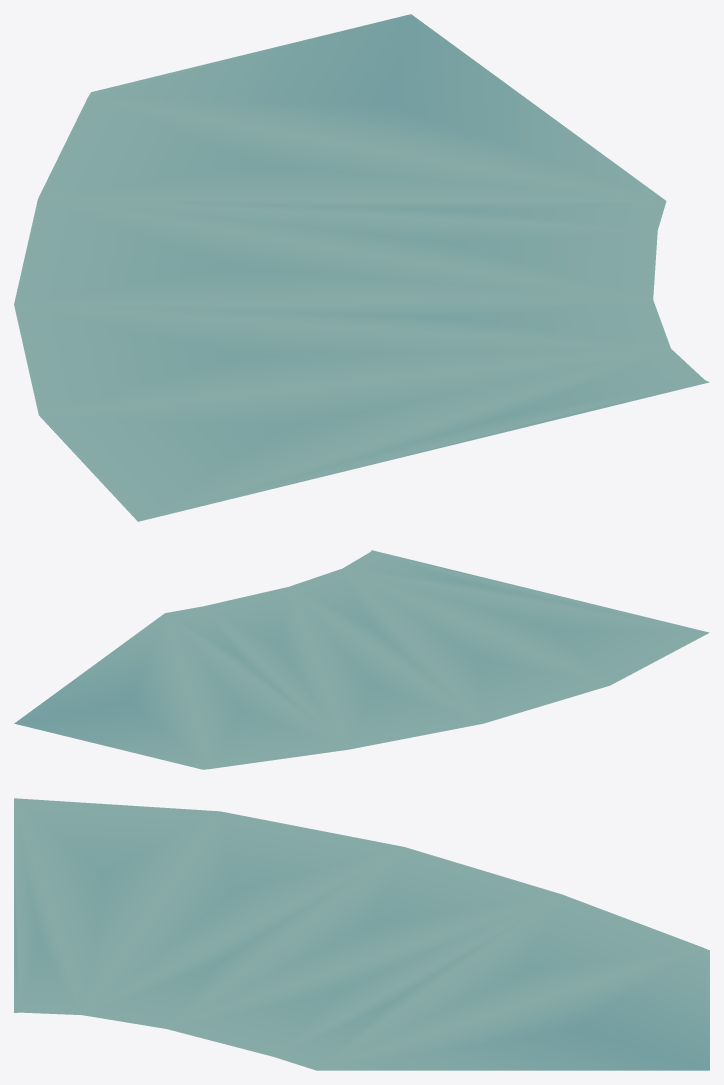
Rendered from water-14-3.glb.
The picture shows the model from 3 angles, top to bottom: view 1: azimuth 30°, elevation 25°; view 2: azimuth 150°, elevation 25°; view 3: azimuth 270°, elevation 25°; orthographic projection. The views are drawn at different scales.
Size of the model in its own units: 14.82 by 0 by 16.
